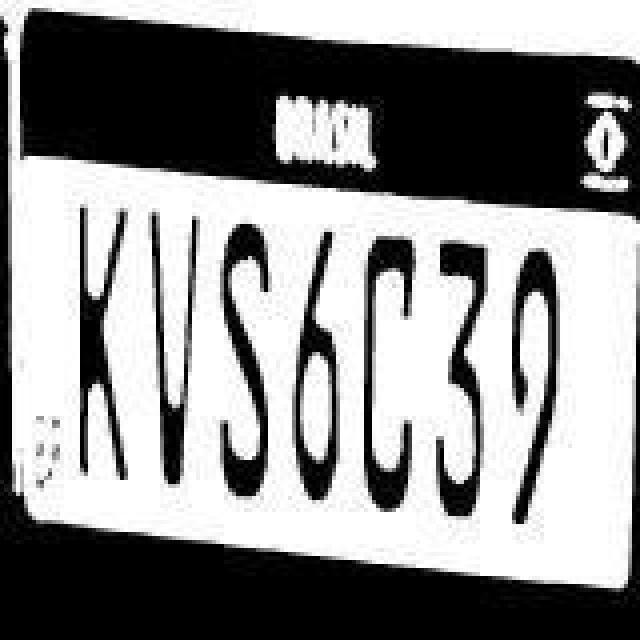3: (430, 212, 498, 524)
6: (276, 214, 348, 522)
9: (502, 222, 570, 530)
C: (352, 218, 416, 518)
K: (66, 198, 142, 506)
S: (204, 212, 276, 516)
V: (146, 204, 206, 500)
